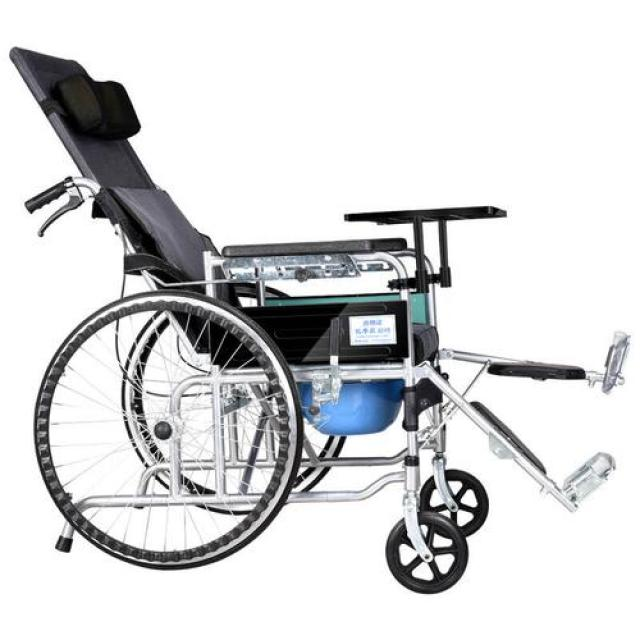wheelchairs: (1, 30, 631, 602)
